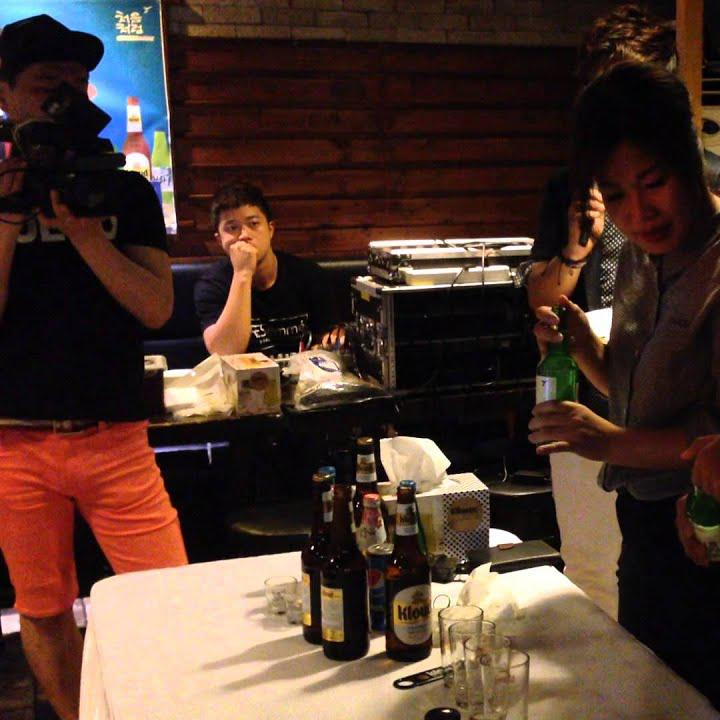soju: (526, 308, 589, 467)
